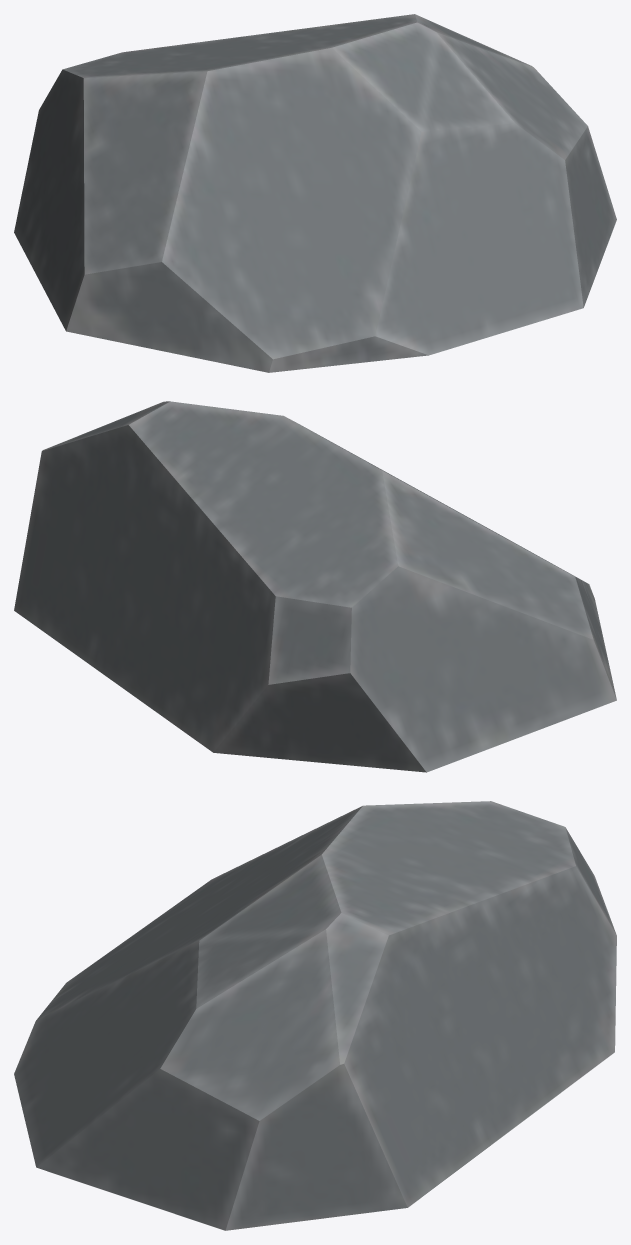
The model's file is rock3.glb.
3 views of the same model, one above another, from view 1: azimuth 30°, elevation 25°; view 2: azimuth 150°, elevation 25°; view 3: azimuth 270°, elevation 25° (orthographic). The views are drawn at different scales.
Visible parts, largest first — view 1: rock_003; view 2: rock_003; view 3: rock_003.
Boxes of the visible parts, left/top/right/bottom form: rock_003: left=14, top=14, right=616, bottom=372; rock_003: left=14, top=401, right=616, bottom=772; rock_003: left=14, top=801, right=616, bottom=1230.
Size of the model in its own units: 0.2815 by 0.1037 by 0.2374.
Materials: 1 (1 with a texture image).
